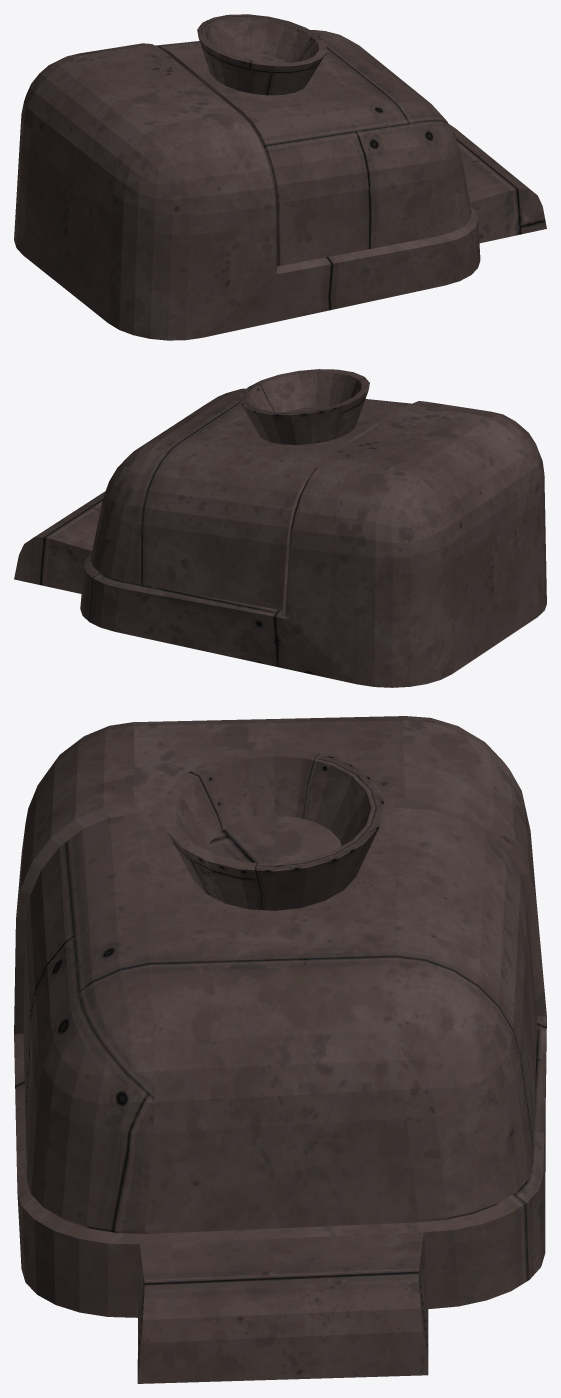
File: MachinePart03.fbx
3 renders of one model, top to bottom at view 1: azimuth 30°, elevation 25°; view 2: azimuth 150°, elevation 25°; view 3: azimuth 270°, elevation 25°, orthographic. The views are drawn at different scales.
Visible parts, largest first — view 1: SM_ENV_STRUCT_ScrapYard_MachinePart_10.mo; view 2: SM_ENV_STRUCT_ScrapYard_MachinePart_10.mo; view 3: SM_ENV_STRUCT_ScrapYard_MachinePart_10.mo.
Part boxes in pixels (x1,y1,x2,y2): SM_ENV_STRUCT_ScrapYard_MachinePart_10.mo: [14, 14, 546, 340]; SM_ENV_STRUCT_ScrapYard_MachinePart_10.mo: [14, 369, 546, 687]; SM_ENV_STRUCT_ScrapYard_MachinePart_10.mo: [14, 716, 546, 1383].
Bounding box in the file's own units: 1066 × 529 × 661.
Materials: 3 (3 with a texture image).
